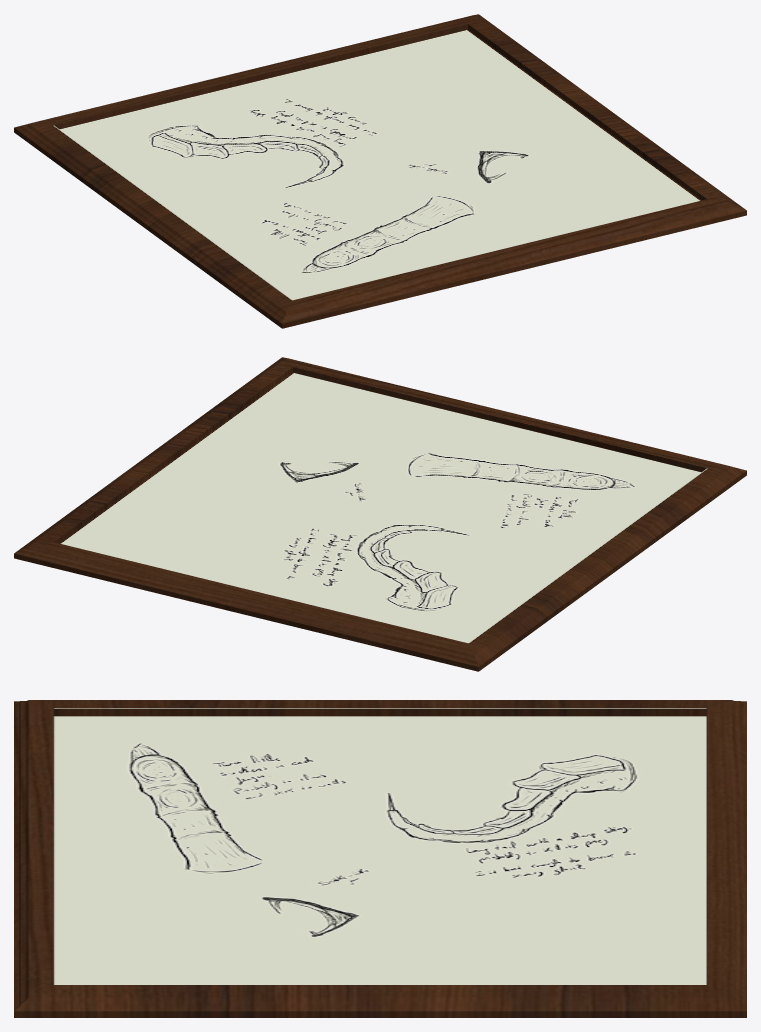
File: cuadro2.fbx
The picture shows the model from 3 angles, top to bottom: view 1: azimuth 30°, elevation 25°; view 2: azimuth 150°, elevation 25°; view 3: azimuth 270°, elevation 25°; orthographic projection. The views are drawn at different scales.
Visible parts, largest first — view 1: picture1:cuadro1_manu; view 2: picture1:cuadro1_manu; view 3: picture1:cuadro1_manu.
Boxes of the visible parts, box(x1,y1,x2,y2) form: picture1:cuadro1_manu: box(14, 14, 746, 328); picture1:cuadro1_manu: box(14, 357, 746, 671); picture1:cuadro1_manu: box(14, 700, 746, 1017).
Size of the model in its own units: 3.83 by 0.0923 by 3.83.
1 material, 1 textured.
